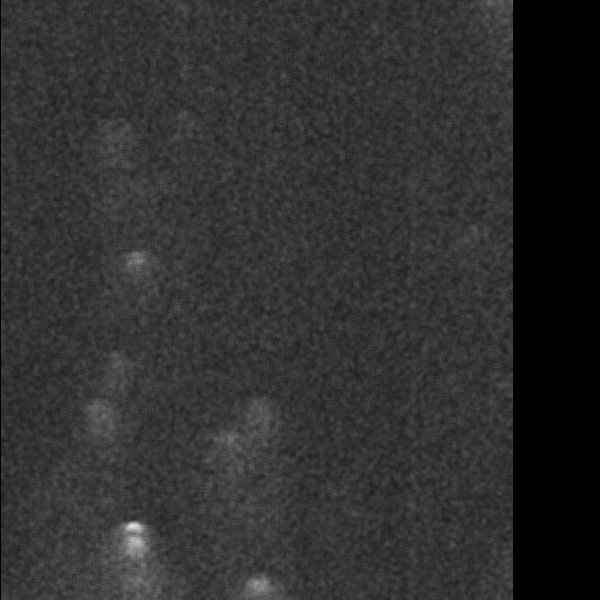spark: (110, 513, 155, 600), (119, 244, 157, 295), (230, 570, 283, 600), (89, 395, 112, 434)
